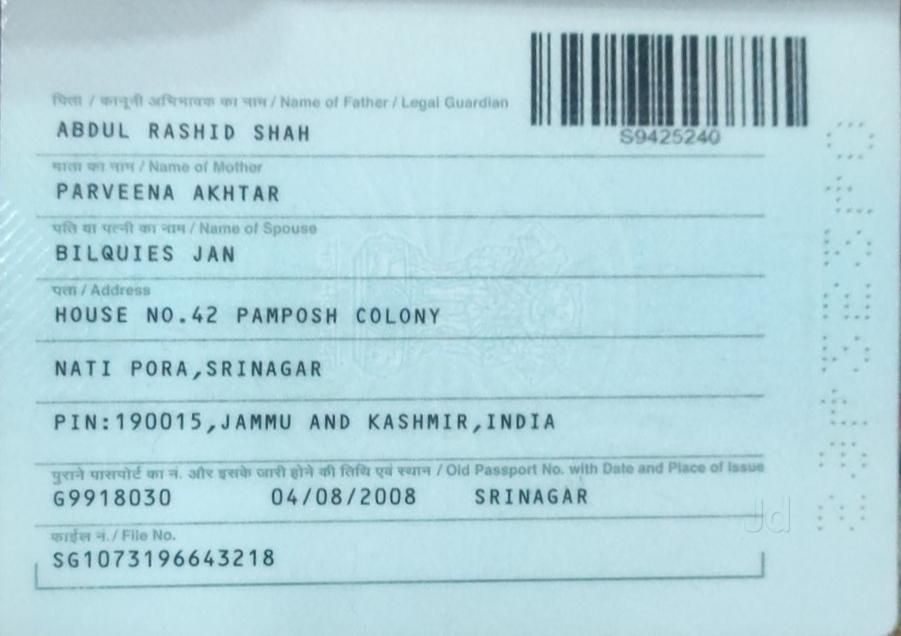File_no: (42, 547, 286, 572)
address: (37, 300, 577, 449)
father_name: (45, 116, 323, 155)
mother_name: (45, 167, 289, 219)
old_passport_details: (34, 481, 608, 520)
passport_no: (611, 126, 736, 157)
spouse_name: (42, 239, 252, 275)
